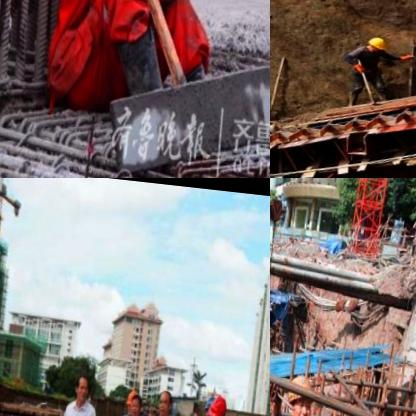helmet: (288, 362, 320, 416), (209, 386, 232, 416), (362, 26, 391, 49), (130, 382, 139, 413), (257, 409, 270, 416), (249, 411, 260, 416)
